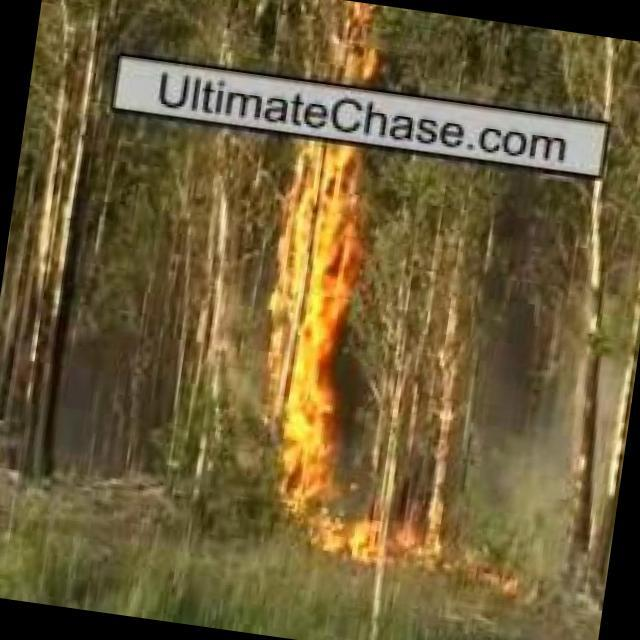Fire: (265, 147, 369, 422), (257, 425, 406, 566), (327, 1, 384, 82)
